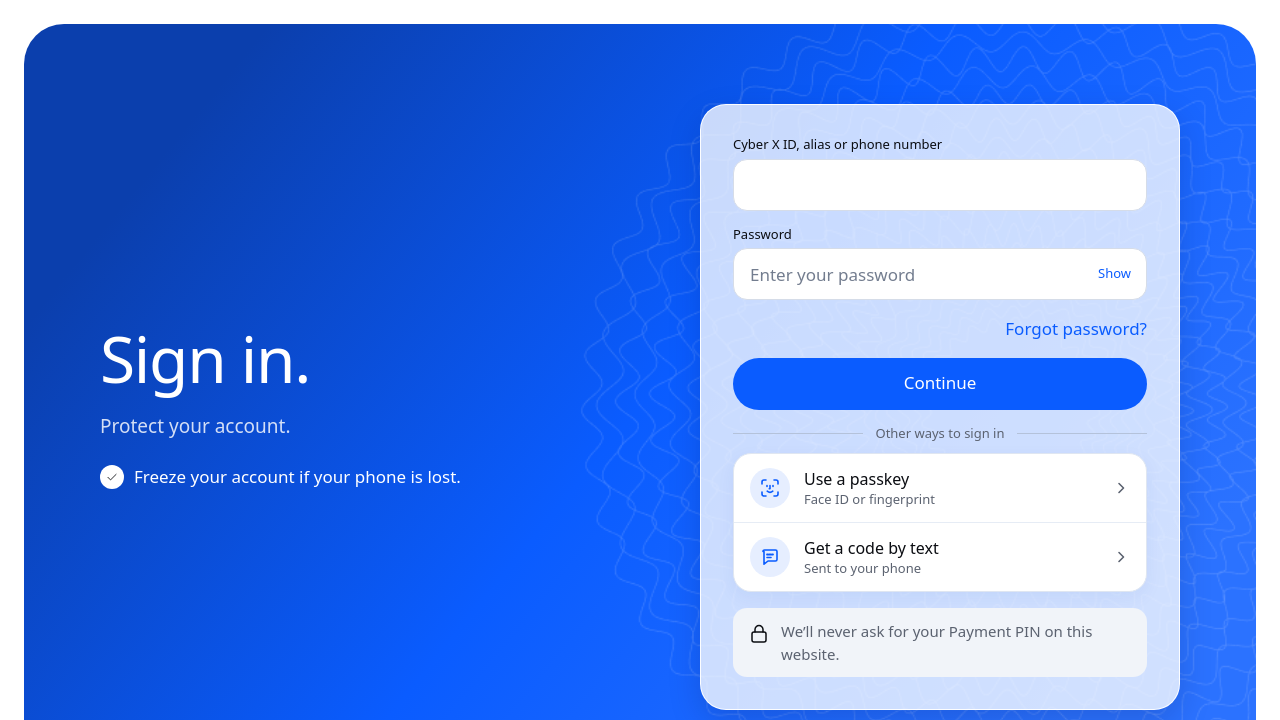
the passkey button (W2.2) › pauses when the visitor is paused
The image size is (1280, 720).
Later steps or results of the test are not shown.
Click the button "Use a passkey Face ID or fingerprint" at (770, 488), box x1=734 y1=454 x2=1146 y2=522
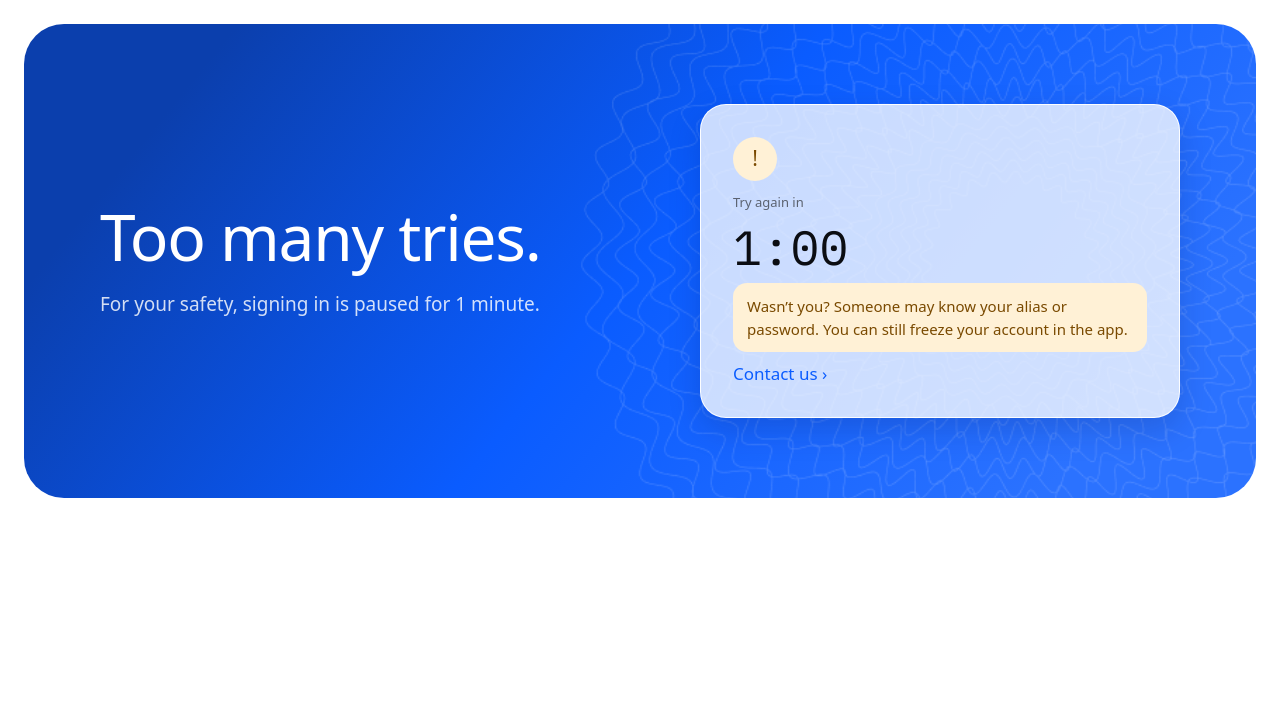
Result: the heading "Too many tries." is shown at x1=100 y1=203 x2=540 y2=270
